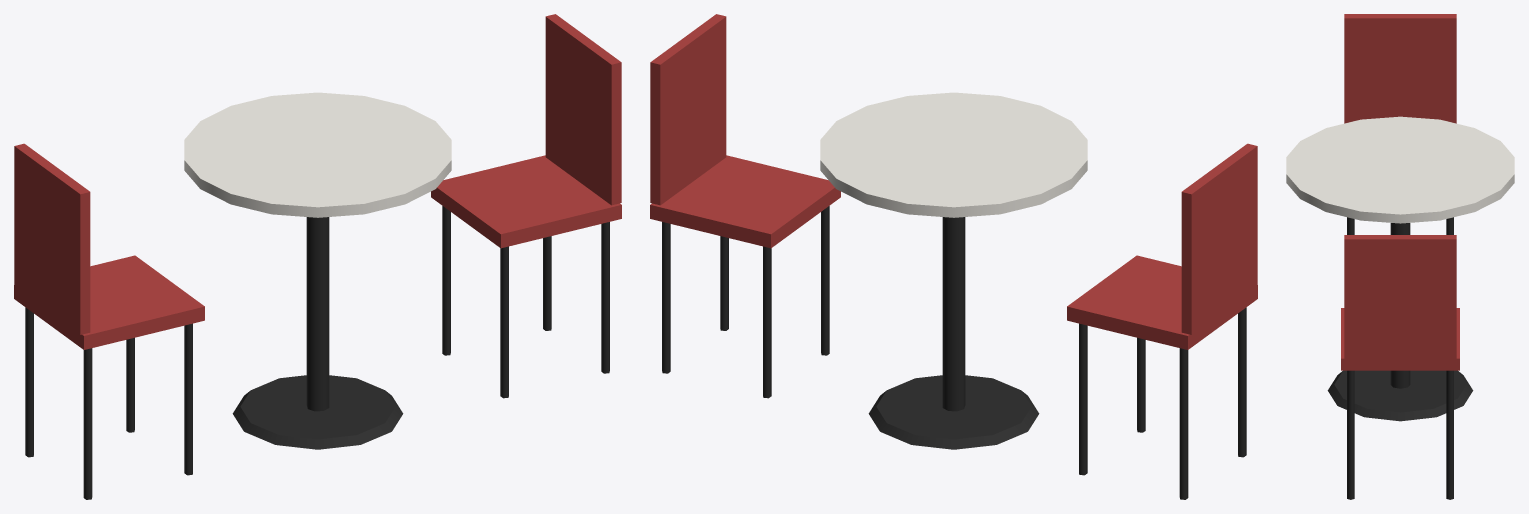
Rendered from cafe_table.glb.
3 renders of one model, left to right at view 1: azimuth 30°, elevation 25°; view 2: azimuth 150°, elevation 25°; view 3: azimuth 270°, elevation 25°, orthographic. The views are drawn at different scales.
Visible parts, largest first — view 1: cafe_table; view 2: cafe_table; view 3: cafe_table.
Part boxes in pixels (x1=…): cafe_table: x1=14, y1=14, x2=621, y2=499; cafe_table: x1=650, y1=14, x2=1257, y2=499; cafe_table: x1=1286, y1=14, x2=1514, y2=499.
Bounding box in the file's own units: 1.61 × 0.88 × 0.6894.
